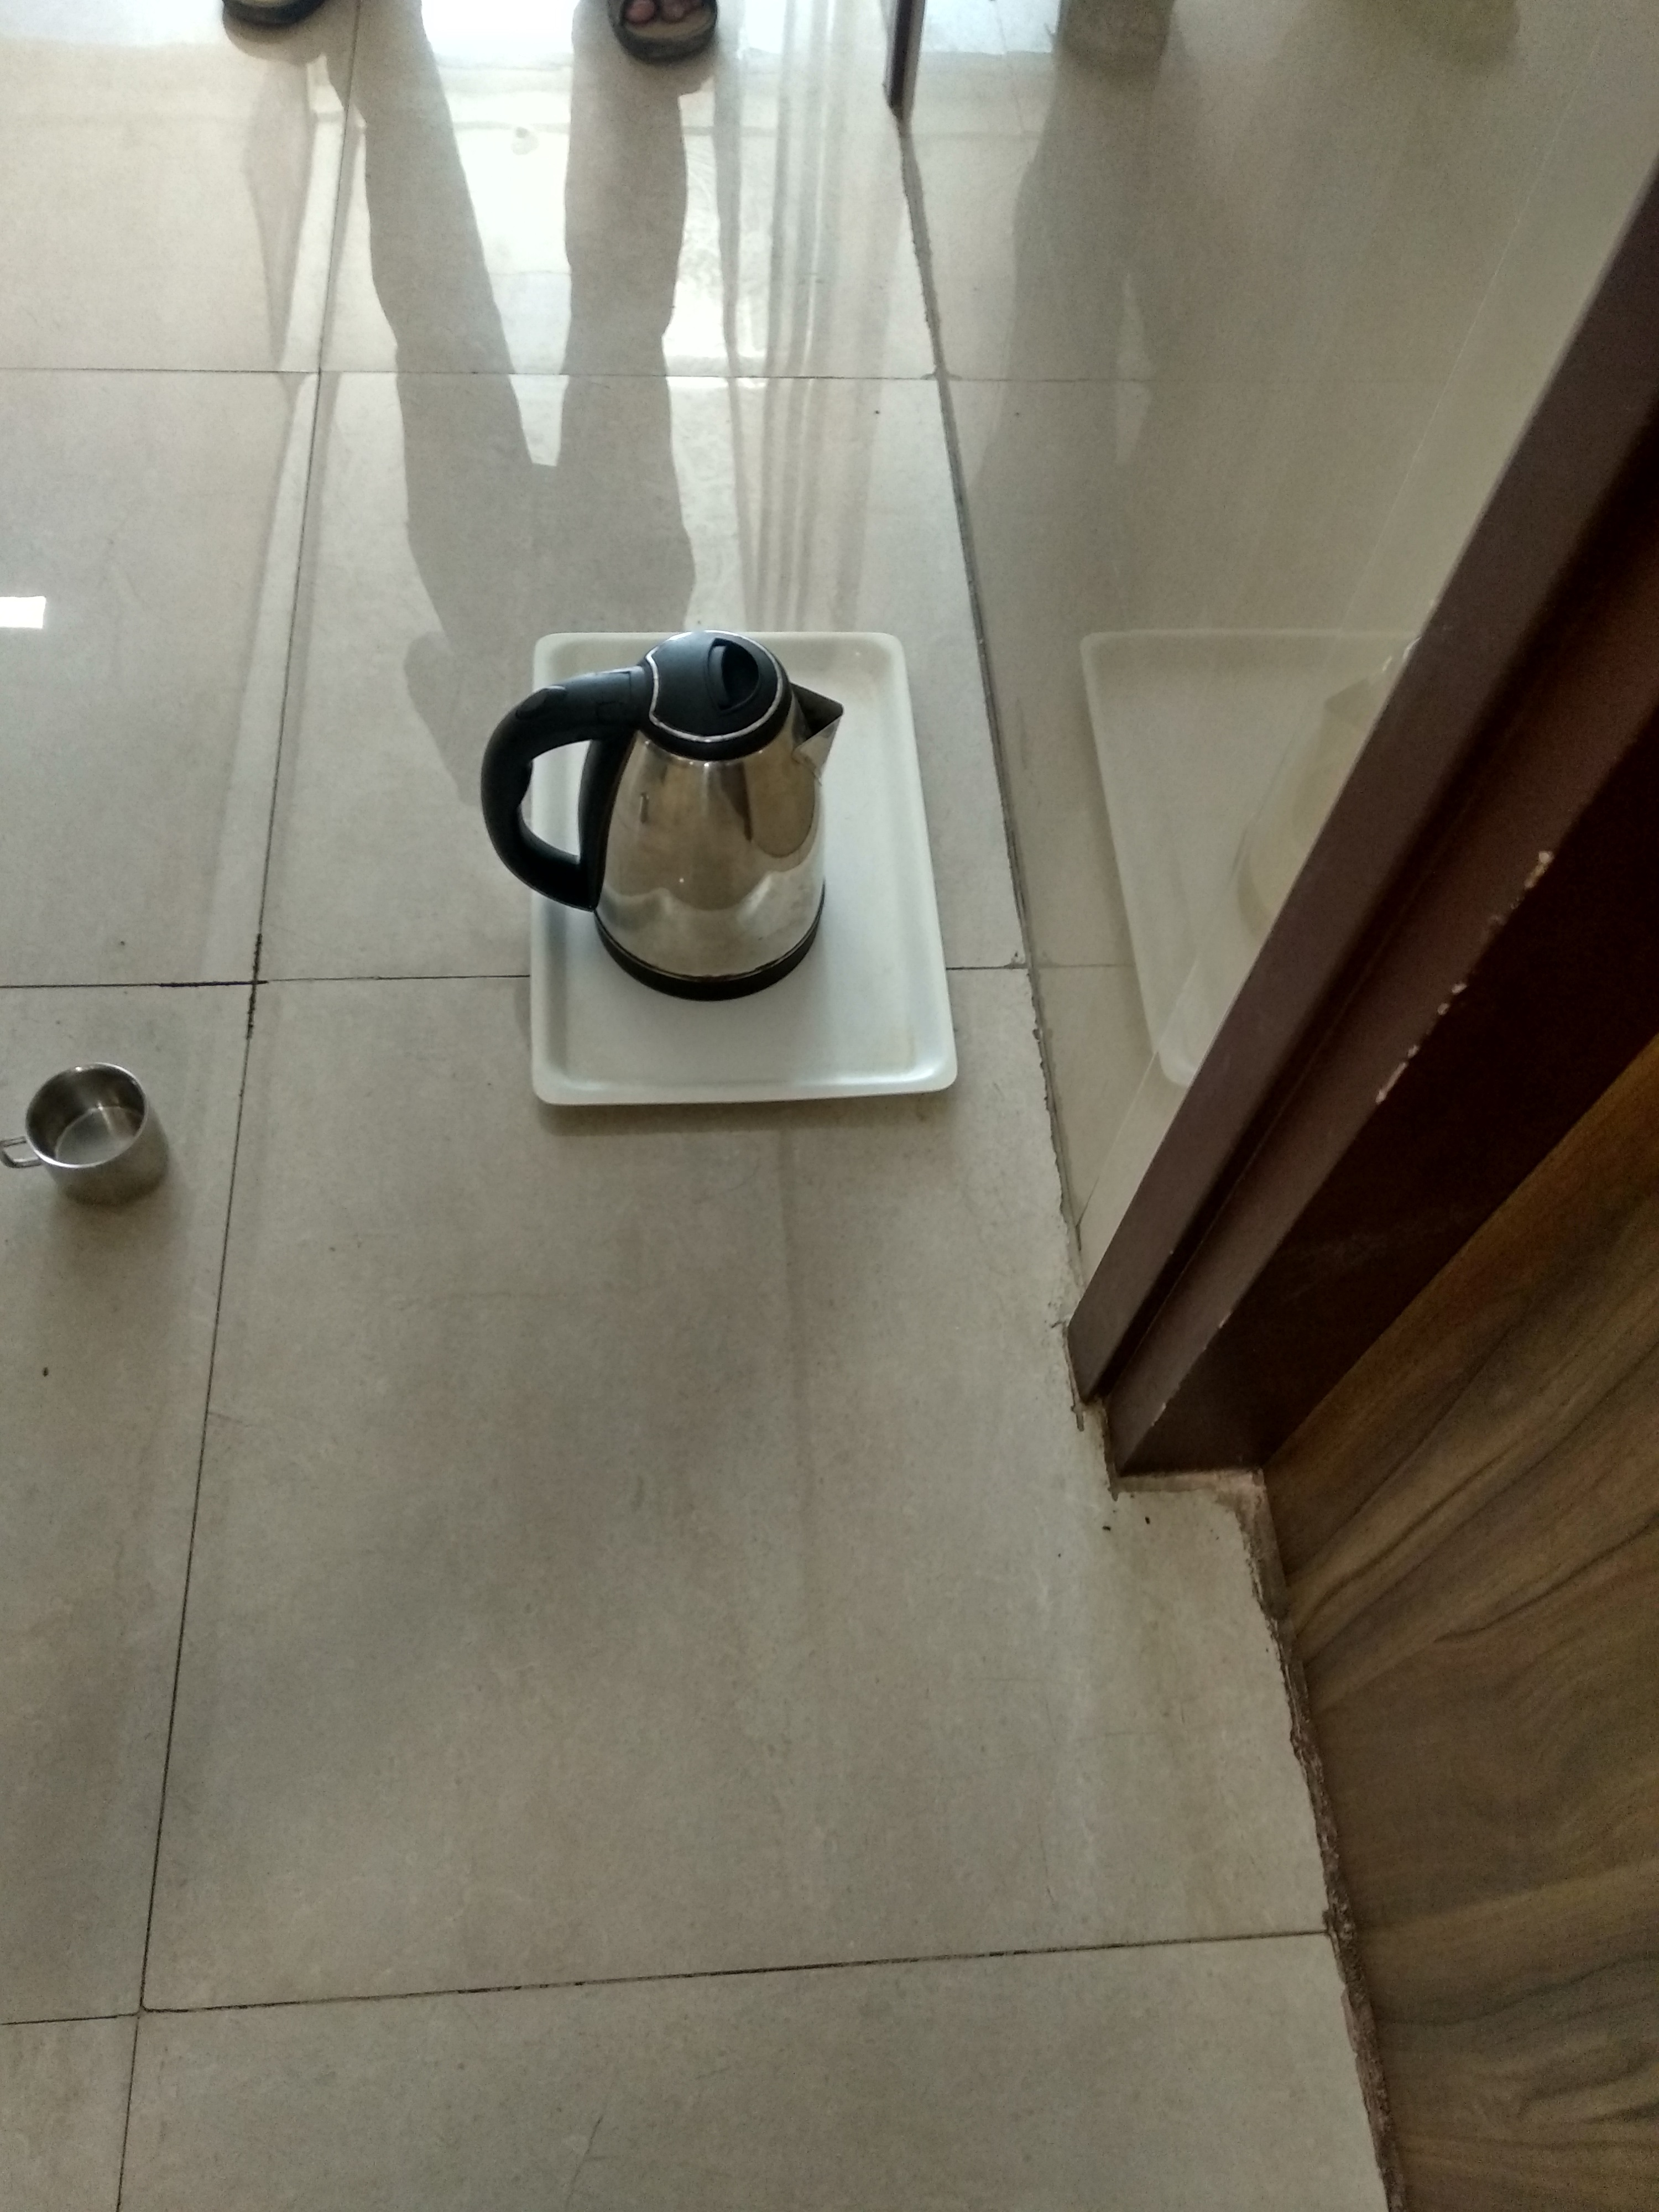CUP: (0, 1057, 185, 1249)
FLASK: (477, 625, 890, 1008)
